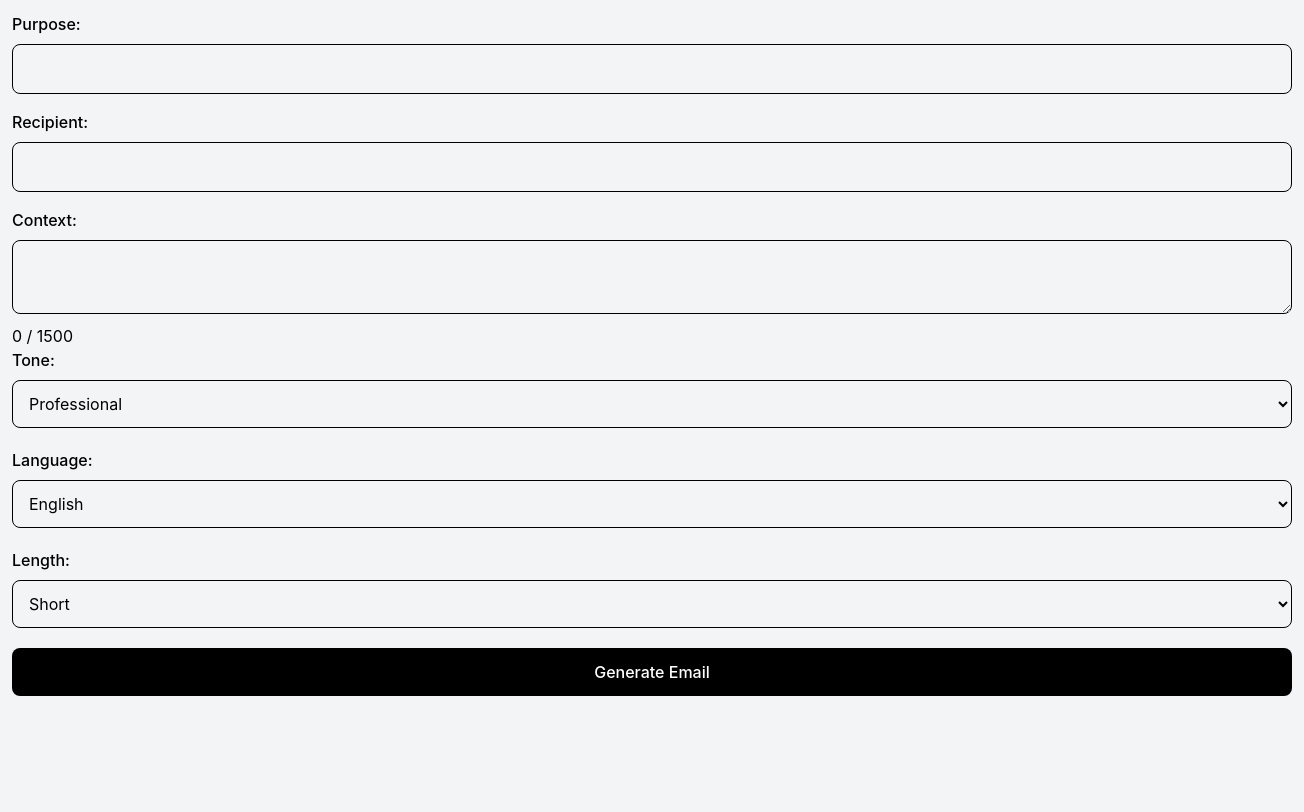
Test case: EmailForm › shows validation errors and does not generate when required fields are empty
Click the button "Generate Email" at coordinates (652, 672), box [12,648,1292,696]
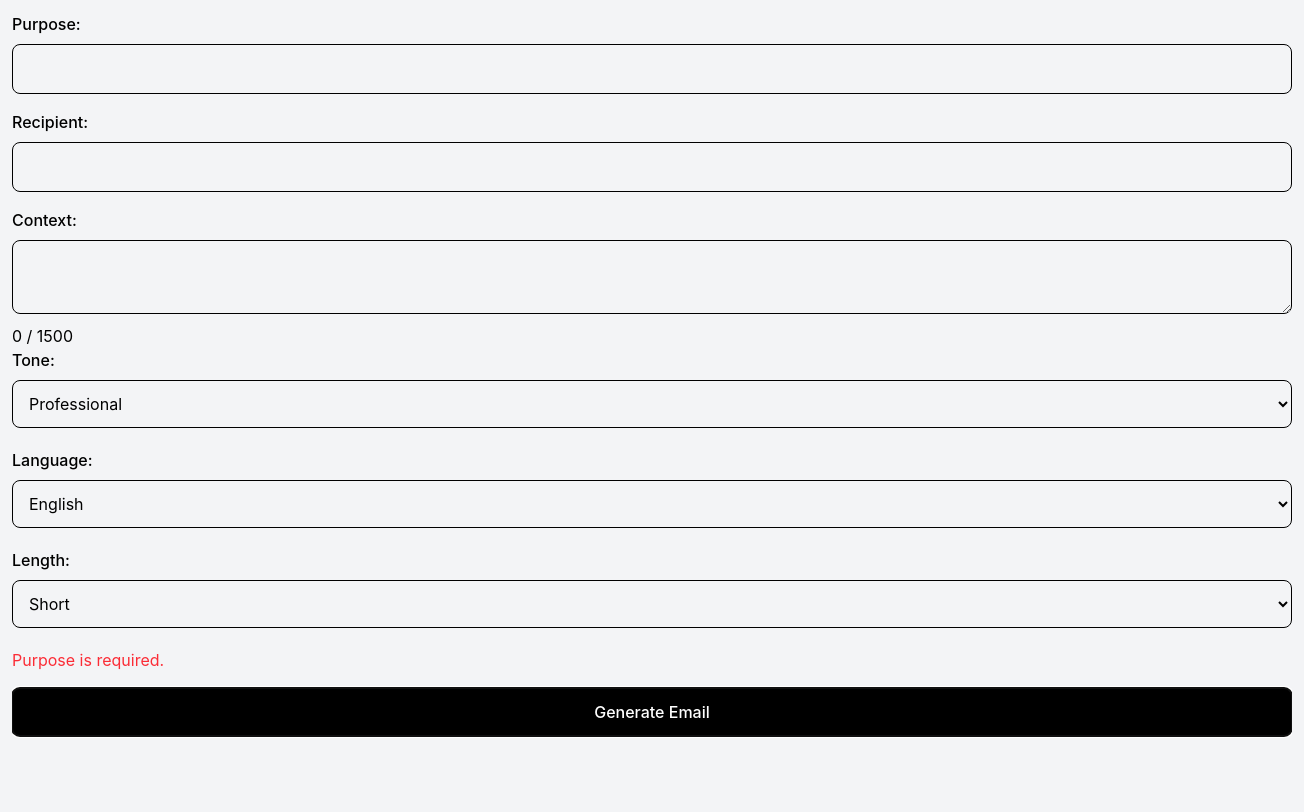
Expected: the text "Purpose is required." is shown, [12,650,164,670]
